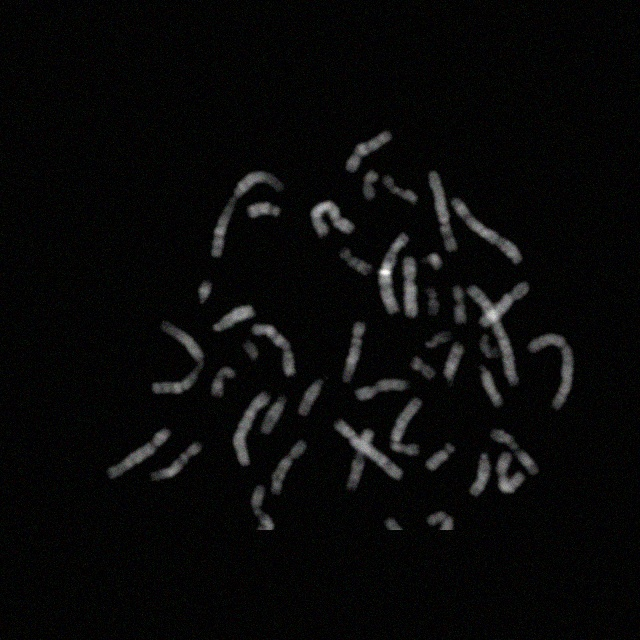chromosome: (211, 172, 285, 258), (451, 197, 527, 265), (468, 286, 518, 386), (336, 420, 404, 480), (152, 322, 204, 394), (530, 332, 574, 408), (109, 428, 171, 478), (232, 392, 270, 464), (378, 232, 409, 314), (491, 427, 539, 479), (428, 170, 458, 252), (479, 283, 531, 329), (252, 324, 298, 374), (271, 441, 307, 499), (150, 442, 202, 482), (346, 131, 394, 171), (391, 398, 422, 456), (310, 200, 354, 240), (347, 427, 373, 489), (342, 322, 364, 382), (214, 305, 256, 333), (356, 377, 408, 399), (250, 484, 274, 530), (479, 364, 505, 406), (383, 175, 419, 205), (498, 452, 524, 492), (339, 247, 371, 279), (298, 379, 326, 415), (260, 398, 288, 434), (468, 453, 490, 497), (444, 343, 466, 383), (404, 256, 418, 318), (428, 442, 454, 470), (211, 367, 237, 395), (450, 288, 470, 324), (411, 354, 435, 381), (427, 509, 455, 529), (249, 202, 281, 218), (362, 172, 380, 200), (420, 253, 442, 273), (425, 331, 451, 347), (480, 336, 498, 358), (198, 278, 212, 306), (428, 286, 438, 318), (242, 340, 258, 360), (384, 518, 404, 530)
